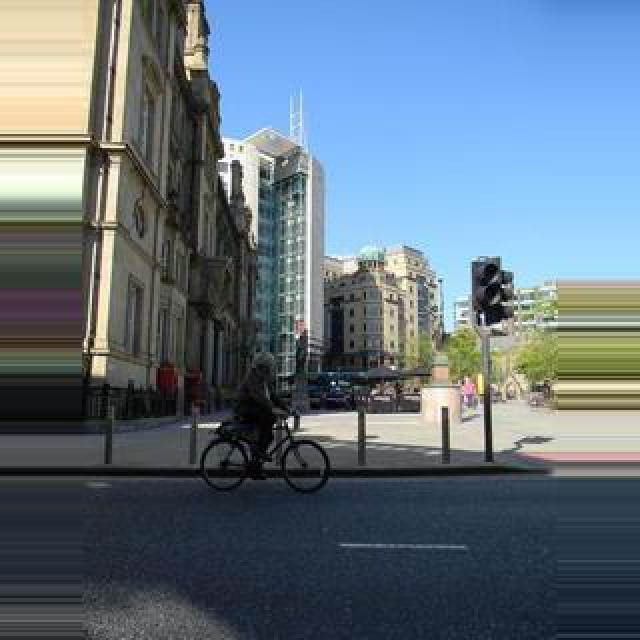MC-Bike: (234, 352, 292, 474), (462, 376, 476, 414)
Person: (200, 410, 332, 494)
